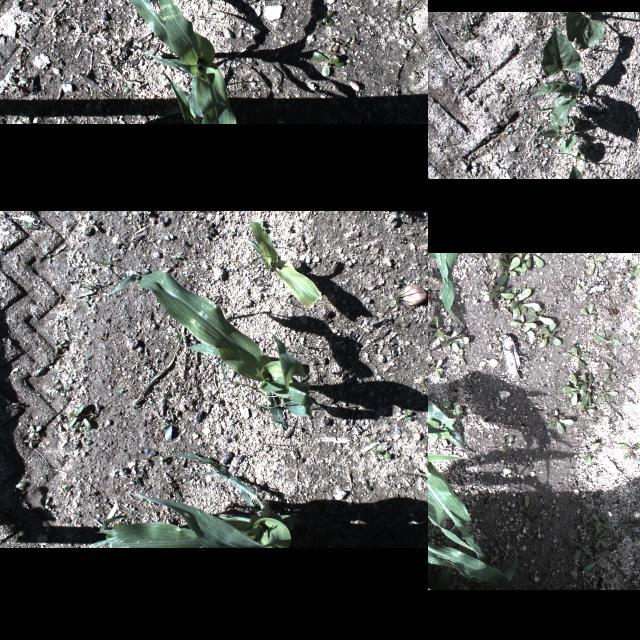crop: (108, 268, 316, 432), (88, 453, 296, 547), (132, 0, 238, 121), (428, 349, 486, 568), (428, 478, 517, 589), (246, 220, 322, 308), (529, 24, 585, 130), (428, 252, 464, 327), (537, 120, 593, 156), (565, 11, 605, 49)
weed: (220, 358, 278, 402), (436, 529, 474, 589), (234, 398, 294, 428), (311, 34, 351, 76), (67, 402, 99, 432), (562, 370, 588, 406), (164, 330, 186, 366), (88, 252, 112, 282), (497, 256, 521, 286), (442, 326, 468, 352), (428, 417, 455, 442), (516, 287, 542, 311), (539, 320, 561, 348), (582, 550, 610, 572), (562, 346, 590, 366), (546, 414, 574, 434), (3, 74, 30, 94), (314, 6, 338, 28), (387, 286, 413, 306), (594, 329, 620, 349), (494, 258, 526, 274), (526, 306, 554, 324), (360, 420, 382, 442), (566, 540, 590, 560), (592, 513, 616, 533), (593, 526, 613, 550), (616, 258, 640, 278), (616, 442, 640, 460), (588, 253, 608, 274), (160, 408, 173, 440), (510, 314, 536, 330), (582, 372, 594, 406), (597, 385, 619, 403), (402, 9, 416, 37), (428, 315, 445, 336), (584, 442, 600, 464), (410, 67, 428, 85), (524, 252, 544, 268), (578, 401, 598, 417), (488, 286, 514, 298), (501, 288, 522, 302), (626, 512, 640, 533), (441, 400, 461, 414), (392, 0, 408, 17), (480, 282, 502, 294), (431, 358, 444, 378), (118, 77, 134, 93), (580, 302, 596, 318), (511, 300, 527, 316), (7, 482, 25, 496), (419, 371, 428, 399), (374, 445, 391, 459), (54, 413, 66, 432), (20, 214, 36, 228), (520, 328, 534, 344), (518, 252, 530, 270), (502, 436, 514, 454), (630, 300, 640, 321), (76, 278, 96, 288), (28, 424, 42, 438), (504, 252, 518, 266), (603, 366, 617, 380), (54, 338, 66, 354), (576, 374, 588, 390), (592, 382, 602, 400), (24, 434, 36, 448), (74, 290, 94, 298), (458, 348, 468, 364), (524, 494, 532, 514), (501, 298, 514, 310), (630, 253, 640, 268), (576, 278, 586, 290), (634, 322, 640, 342), (89, 218, 98, 230), (56, 315, 66, 325), (401, 411, 411, 421), (618, 282, 628, 292), (540, 506, 552, 514), (44, 496, 50, 510), (257, 220, 265, 230), (494, 306, 506, 312), (582, 514, 586, 532), (617, 271, 629, 277), (12, 400, 20, 408), (84, 297, 92, 305), (587, 400, 595, 408), (45, 252, 51, 262), (428, 515, 432, 528), (60, 485, 66, 493), (403, 210, 405, 224), (636, 318, 640, 325), (134, 210, 142, 213), (160, 454, 162, 464), (172, 254, 180, 256)
